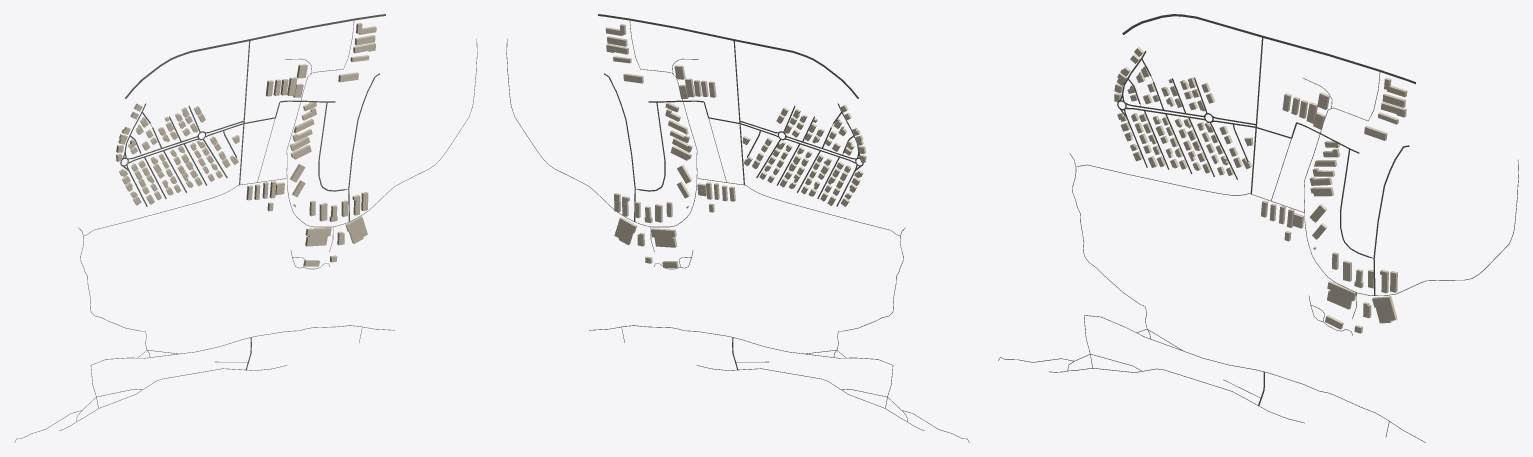
File: historic-palestine-10_36_3517_3304.glb
The picture shows the model from 3 angles, left to right: view 1: azimuth 30°, elevation 25°; view 2: azimuth 150°, elevation 25°; view 3: azimuth 330°, elevation 25°; orthographic projection. The views are drawn at different scales.
Parts seen in each view (by area): view 1: Road .006, Road .042; view 2: Road .006, Road .042; view 3: Road .006, Road .042, Building_.099, Building_.101, Road .010.
Part boxes in pixels (bbox=[...]): Road .006: bbox=[125, 14, 385, 98]; Road .042: bbox=[286, 21, 477, 227]; Road .006: bbox=[598, 14, 858, 98]; Road .042: bbox=[506, 21, 697, 227]; Road .006: bbox=[1122, 14, 1415, 84]; Road .042: bbox=[1304, 72, 1518, 295]; Building_.099: bbox=[1327, 281, 1356, 309]; Building_.101: bbox=[1372, 296, 1397, 323]; Road .010: bbox=[1340, 145, 1409, 258].
Size of the model in its own units: 1238 by 892 by 8.7.
